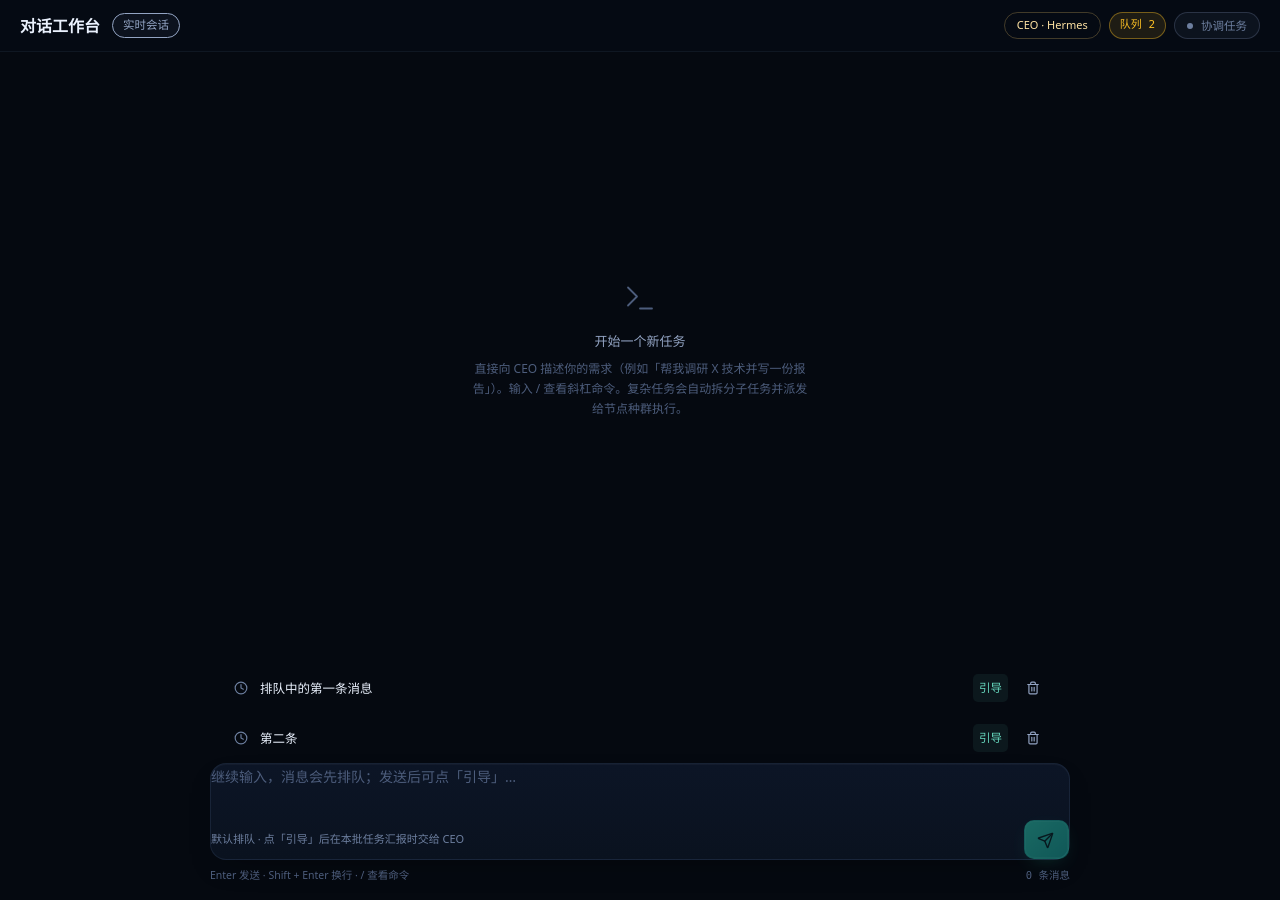
Test: ChatView 队列面板 › 多条排队消息按序号展示
The image size is (1280, 900).
Click the button titled "任务队列（查看 / 编辑 / 撤销排队消息）". click: x=1137, y=26
box: top-left (1109, 12), bottom-right (1166, 39)
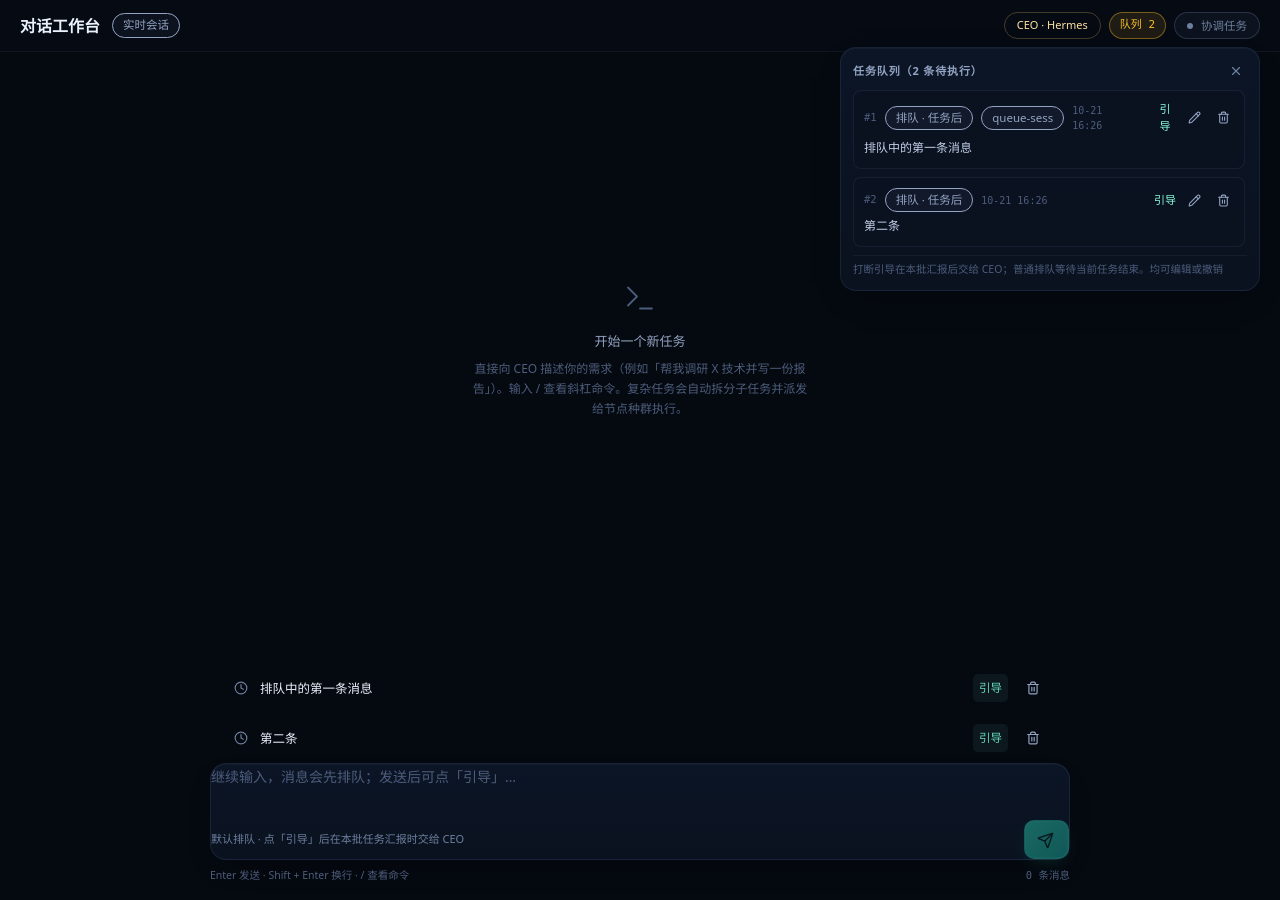
Result: the text "#1" is shown at top-left (864, 110), bottom-right (877, 126)
Result: the text "#2" is shown at top-left (864, 192), bottom-right (877, 208)
Result: the text "第二条" is shown at top-left (864, 217), bottom-right (900, 234)
